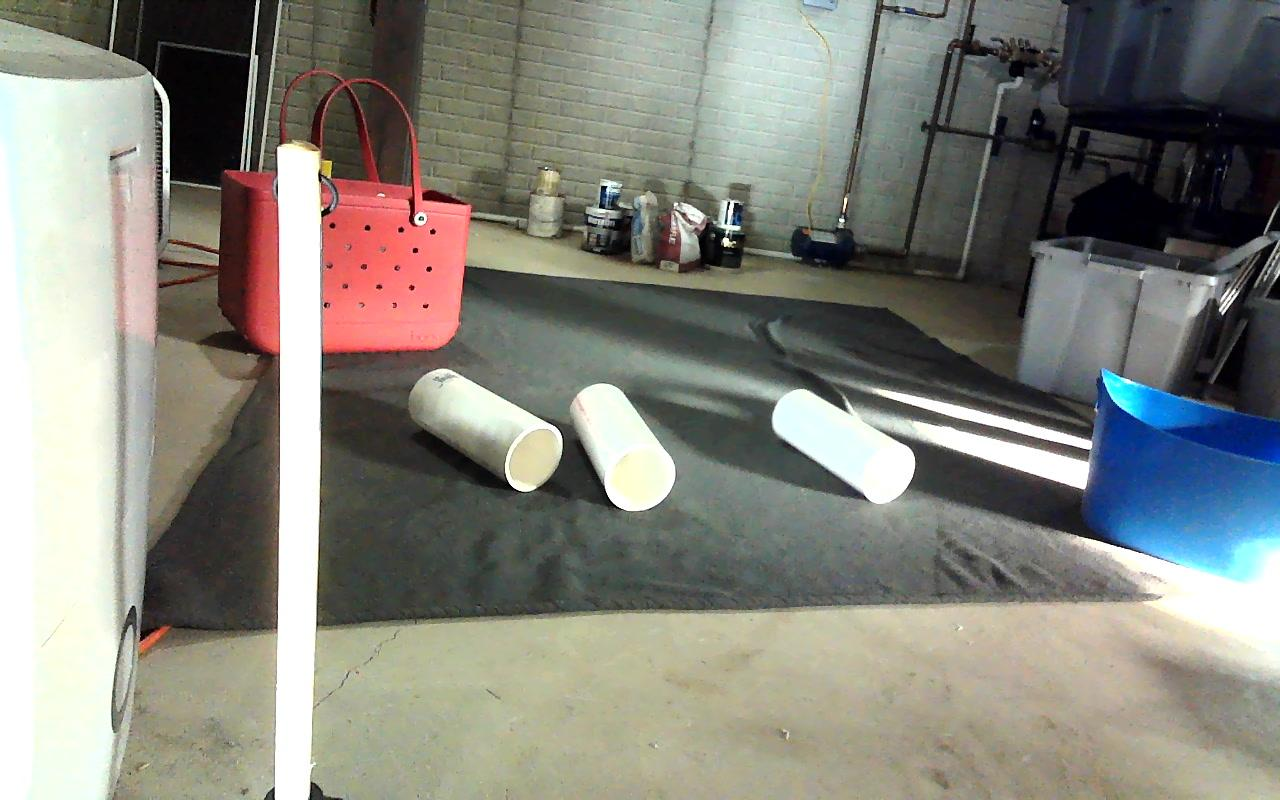coral: (408, 369, 565, 490), (771, 391, 914, 503), (571, 383, 675, 509)
